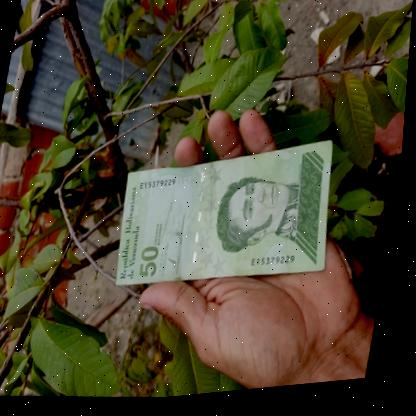dollar_front: (111, 123, 351, 311)
